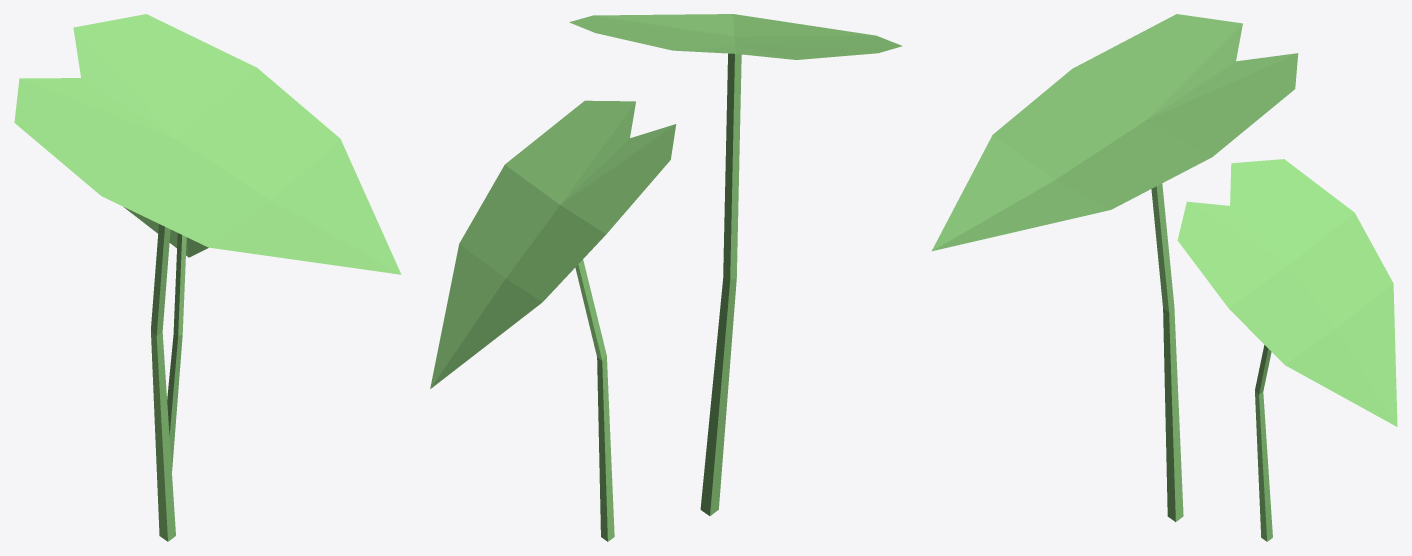
File: Plant_d_OneS_06.fbx
3 views of the same model, side by side, from view 1: azimuth 30°, elevation 25°; view 2: azimuth 150°, elevation 25°; view 3: azimuth 270°, elevation 25° (orthographic). The views are drawn at different scales.
Parts seen in each view (by area): view 1: Plant_d_OneS_06; view 2: Plant_d_OneS_06; view 3: Plant_d_OneS_06.
Boxes of the visible parts, x1,y1,x2,y2 form: Plant_d_OneS_06: [14, 14, 401, 541]; Plant_d_OneS_06: [430, 14, 902, 541]; Plant_d_OneS_06: [932, 14, 1397, 541].
Size of the model in its own units: 52.24 by 72.94 by 68.31.
